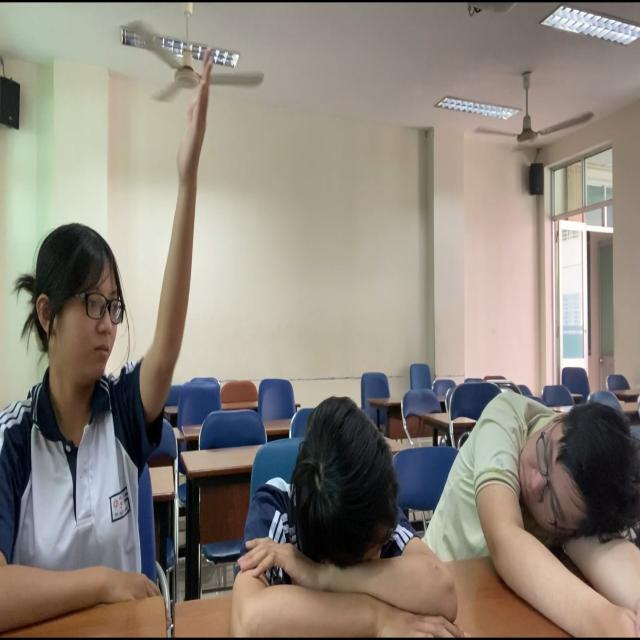raise_hand: (1, 49, 222, 640)
sleep: (231, 397, 459, 640), (453, 374, 640, 599)
